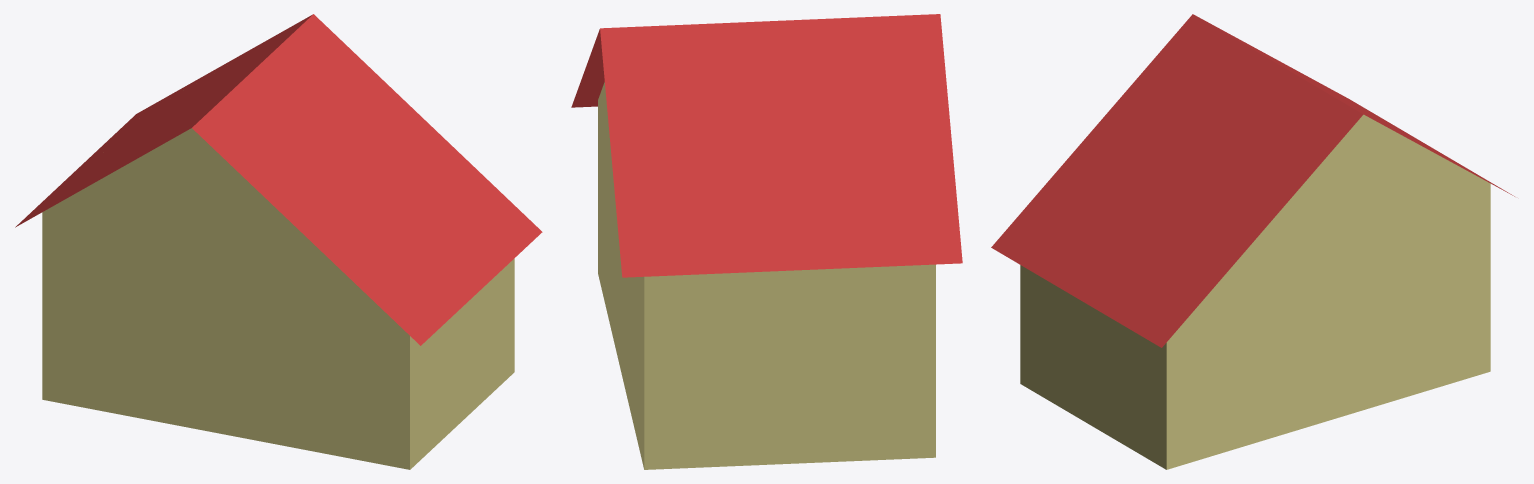
3 renders of one model, left to right at view 1: azimuth 30°, elevation 25°; view 2: azimuth 150°, elevation 25°; view 3: azimuth 270°, elevation 25°, orthographic. The views are drawn at different scales.
Size of the model in its own units: 23.61 by 25.22 by 16.14.
